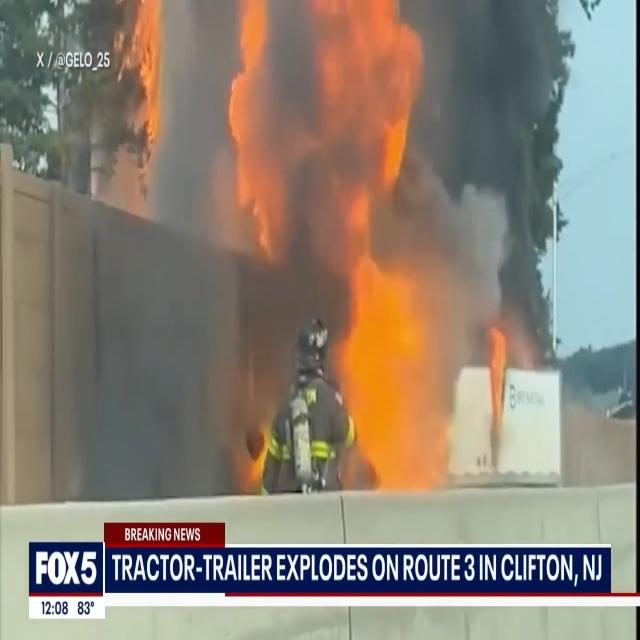fire: (223, 0, 428, 253), (348, 254, 448, 486), (128, 0, 176, 164)
